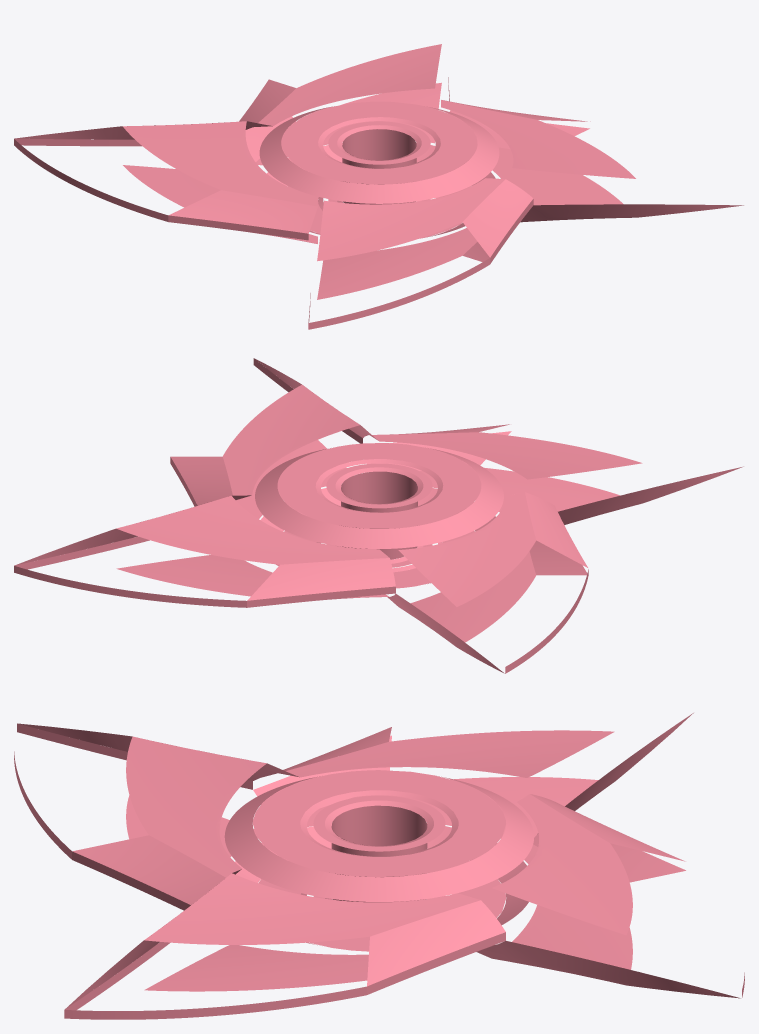
Rendered from shuriken-by-angelo-raffaele-catalano-83UoVMAcAUF.glb.
3 renders of one model, top to bottom at view 1: azimuth 30°, elevation 25°; view 2: azimuth 150°, elevation 25°; view 3: azimuth 270°, elevation 25°, orthographic. The views are drawn at different scales.
Visible parts, largest first — view 1: nurbsToPoly1, nurbsToPoly23, nurbsToPoly26, nurbsToPoly32, nurbsToPoly20, nurbsToPoly29, nurbsToPoly49, nurbsToPoly25, nurbsToPoly52, nurbsToPoly28, nurbsToPoly57, nurbsToPoly46 (+14 smaller); view 2: nurbsToPoly1, nurbsToPoly20, nurbsToPoly23, nurbsToPoly32, nurbsToPoly29, nurbsToPoly26, nurbsToPoly22, nurbsToPoly46, nurbsToPoly43, nurbsToPoly49, nurbsToPoly31, nurbsToPoly56 (+15 smaller); view 3: nurbsToPoly1, nurbsToPoly29, nurbsToPoly26, nurbsToPoly32, nurbsToPoly20, nurbsToPoly23, nurbsToPoly52, nurbsToPoly31, nurbsToPoly28, nurbsToPoly43, nurbsToPoly58, nurbsToPoly37 (+21 smaller).
Part boxes in pixels (x1,y1,x2,y2): nurbsToPoly1: (281, 101, 477, 184); nurbsToPoly23: (123, 121, 317, 206); nurbsToPoly26: (317, 178, 505, 261); nurbsToPoly32: (259, 106, 499, 203); nurbsToPoly20: (258, 44, 441, 125); nurbsToPoly29: (441, 100, 635, 178); nurbsToPoly49: (317, 228, 477, 299); nurbsToPoly25: (169, 190, 317, 233); nurbsToPoly52: (471, 144, 623, 205); nurbsToPoly28: (463, 179, 533, 257); nurbsToPoly57: (520, 204, 743, 222); nurbsToPoly46: (123, 165, 317, 243); nurbsToPoly1: (277, 443, 481, 528); nurbsToPoly20: (116, 495, 389, 564); nurbsToPoly23: (398, 492, 536, 606); nurbsToPoly32: (255, 448, 503, 548); nurbsToPoly29: (222, 384, 359, 495); nurbsToPoly26: (372, 432, 642, 479); nurbsToPoly22: (247, 558, 395, 600); nurbsToPoly46: (410, 551, 536, 642); nurbsToPoly43: (116, 555, 389, 597); nurbsToPoly49: (394, 467, 620, 512); nurbsToPoly31: (171, 456, 232, 505); nurbsToPoly56: (558, 466, 743, 524); nurbsToPoly1: (252, 770, 505, 877); nurbsToPoly29: (144, 873, 480, 944); nurbsToPoly26: (126, 736, 266, 877); nurbsToPoly32: (224, 776, 534, 901); nurbsToPoly20: (492, 794, 632, 935); nurbsToPoly23: (286, 730, 614, 777); nurbsToPoly52: (144, 945, 368, 991); nurbsToPoly31: (367, 900, 505, 986); nurbsToPoly28: (73, 835, 225, 904); nurbsToPoly43: (512, 844, 632, 969); nurbsToPoly58: (476, 941, 740, 998); nurbsToPoly37: (331, 805, 427, 846).
Size of the model in its own units: 6.09 by 0.6861 by 6.09.
